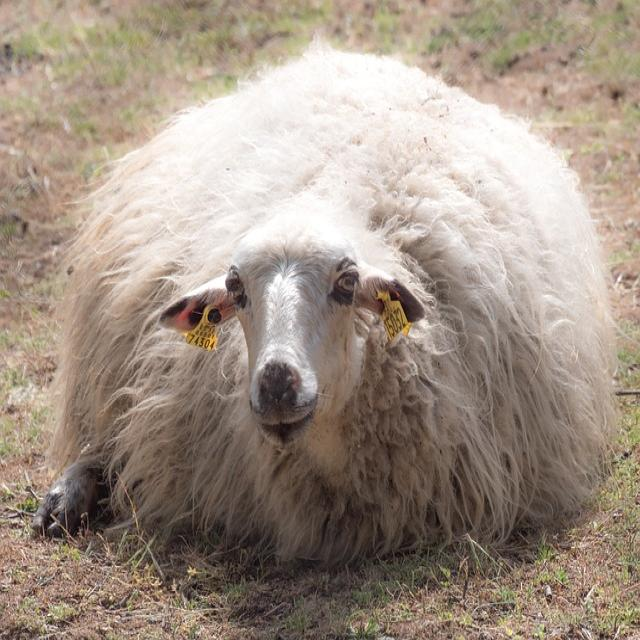goat: (32, 47, 617, 576)
